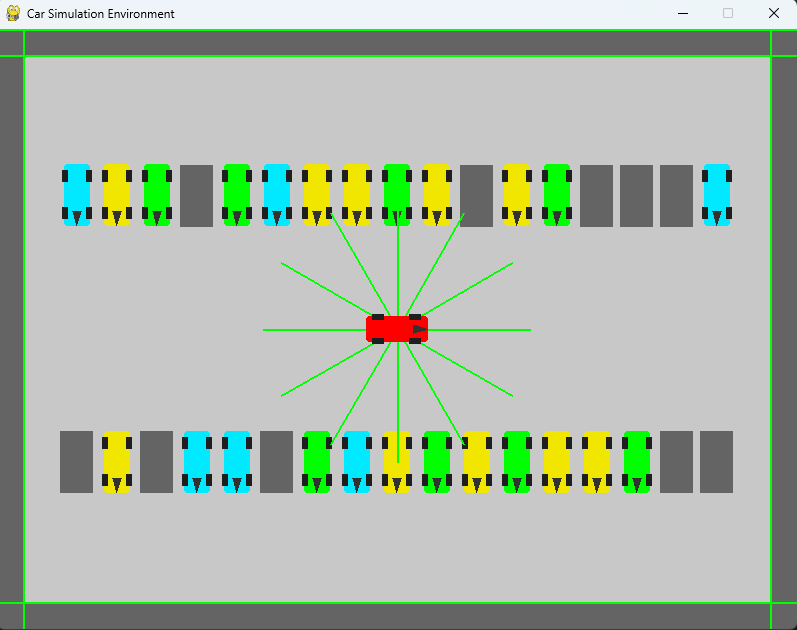ControlledCar: (360, 308, 433, 349)
ParkedCar: (218, 153, 256, 228), (378, 425, 416, 500), (699, 159, 738, 231), (377, 156, 414, 228), (98, 156, 135, 227), (299, 425, 335, 497), (499, 156, 534, 229), (539, 158, 574, 231), (577, 427, 614, 496), (339, 426, 373, 500), (419, 157, 454, 228), (538, 427, 574, 496), (301, 158, 336, 228), (220, 427, 255, 497), (499, 428, 536, 494), (460, 428, 496, 495), (619, 426, 653, 496), (179, 427, 212, 496), (57, 162, 92, 227), (419, 432, 454, 497), (102, 428, 134, 498), (342, 162, 375, 229), (140, 158, 171, 228), (262, 159, 293, 228)
ParkingSpot: (617, 157, 656, 235), (175, 157, 216, 230), (659, 158, 695, 239), (699, 423, 737, 498), (57, 426, 97, 497), (455, 162, 495, 232), (657, 424, 695, 497), (258, 426, 297, 497), (137, 427, 175, 498), (580, 160, 614, 231)
